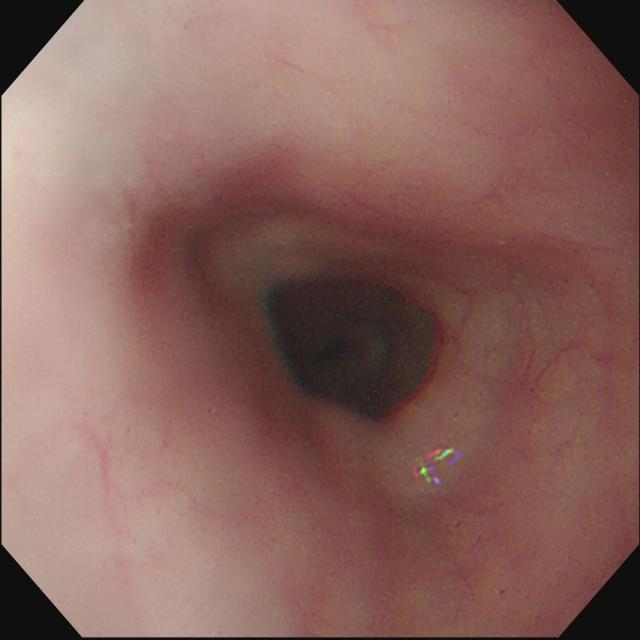E: (271, 281, 446, 418)
U: (412, 448, 463, 489)
